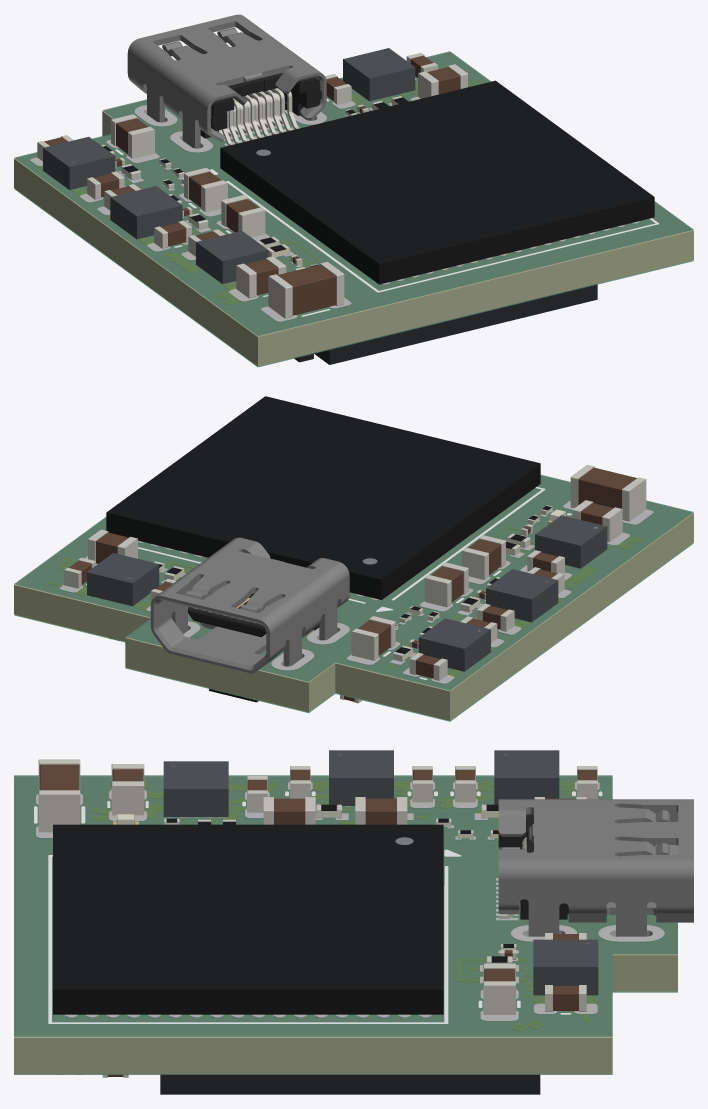
Rendered from fpga-v60-public.glb.
3 views of the same model, one above another, from view 1: azimuth 30°, elevation 25°; view 2: azimuth 150°, elevation 25°; view 3: azimuth 270°, elevation 25° (orthographic). The views are drawn at different scales.
Parts seen in each view (by area): view 1: CSG325_Body, =>[0:1:1:420], =>[0:1:1:418], =>[0:1:1:26], =>[0:1:1:9] (×4), =>[0:1:1:360] (×5), J2, =>[0:1:1:414], =>[0:1:1:362], =>[0:1:1:28] (×3), =>[0:1:1:416], =>[0:1:1:419] (+1 smaller); view 2: CSG325_Body, =>[0:1:1:420], =>[0:1:1:418], =>[0:1:1:26], =>[0:1:1:9] (×4), =>[0:1:1:360] (×5), =>[0:1:1:414], =>[0:1:1:362], =>[0:1:1:28] (×4), =>[0:1:1:419], =>[0:1:1:413], =>[0:1:1:416]; view 3: CSG325_Body, =>[0:1:1:420], =>[0:1:1:418], =>[0:1:1:26], =>[0:1:1:9] (×4), J1, =>[0:1:1:360] (×4), =>[0:1:1:28] (×6), =>[0:1:1:414], =>[0:1:1:362], =>[0:1:1:416], =>[0:1:1:413] (+1 smaller).
Boxes of the visible parts, x1,y1,x2,y2 form: CSG325_Body: [220, 80, 654, 284]; =>[0:1:1:420]: [14, 53, 693, 366]; =>[0:1:1:418]: [14, 51, 693, 335]; =>[0:1:1:26]: [127, 14, 326, 148]; =>[0:1:1:9] (×4): [43, 48, 415, 283]; =>[0:1:1:360] (×5): [111, 64, 467, 298]; J2: [314, 284, 597, 364]; =>[0:1:1:414]: [30, 92, 638, 321]; =>[0:1:1:362]: [268, 261, 344, 318]; =>[0:1:1:28] (×3): [87, 74, 351, 248]; =>[0:1:1:416]: [115, 79, 659, 316]; =>[0:1:1:419]: [14, 189, 693, 367]; CSG325_Body: [106, 396, 540, 599]; =>[0:1:1:420]: [14, 476, 693, 720]; =>[0:1:1:418]: [14, 474, 693, 690]; =>[0:1:1:26]: [150, 537, 349, 673]; =>[0:1:1:9] (×4): [87, 515, 607, 671]; =>[0:1:1:360] (×5): [88, 500, 622, 660]; =>[0:1:1:414]: [60, 500, 653, 683]; =>[0:1:1:362]: [570, 464, 646, 521]; =>[0:1:1:28] (×4): [64, 550, 564, 680]; =>[0:1:1:419]: [14, 543, 693, 721]; =>[0:1:1:413]: [50, 527, 641, 676]; =>[0:1:1:416]: [86, 487, 571, 679]; CSG325_Body: [53, 824, 443, 1014]; =>[0:1:1:420]: [14, 777, 677, 1073]; =>[0:1:1:418]: [14, 775, 677, 1036]; =>[0:1:1:26]: [498, 799, 693, 936]; =>[0:1:1:9] (×4): [163, 750, 598, 995]; J1: [160, 1074, 540, 1094]; =>[0:1:1:360] (×4): [111, 764, 515, 1014]; =>[0:1:1:28] (×6): [247, 766, 597, 1011]; =>[0:1:1:414]: [36, 782, 664, 1021]; =>[0:1:1:362]: [38, 759, 80, 832]; =>[0:1:1:416]: [34, 791, 602, 1023]; =>[0:1:1:413]: [92, 782, 597, 1030].
Bounding box in the file's own units: 0.0237 × 0.006 × 0.0261.
